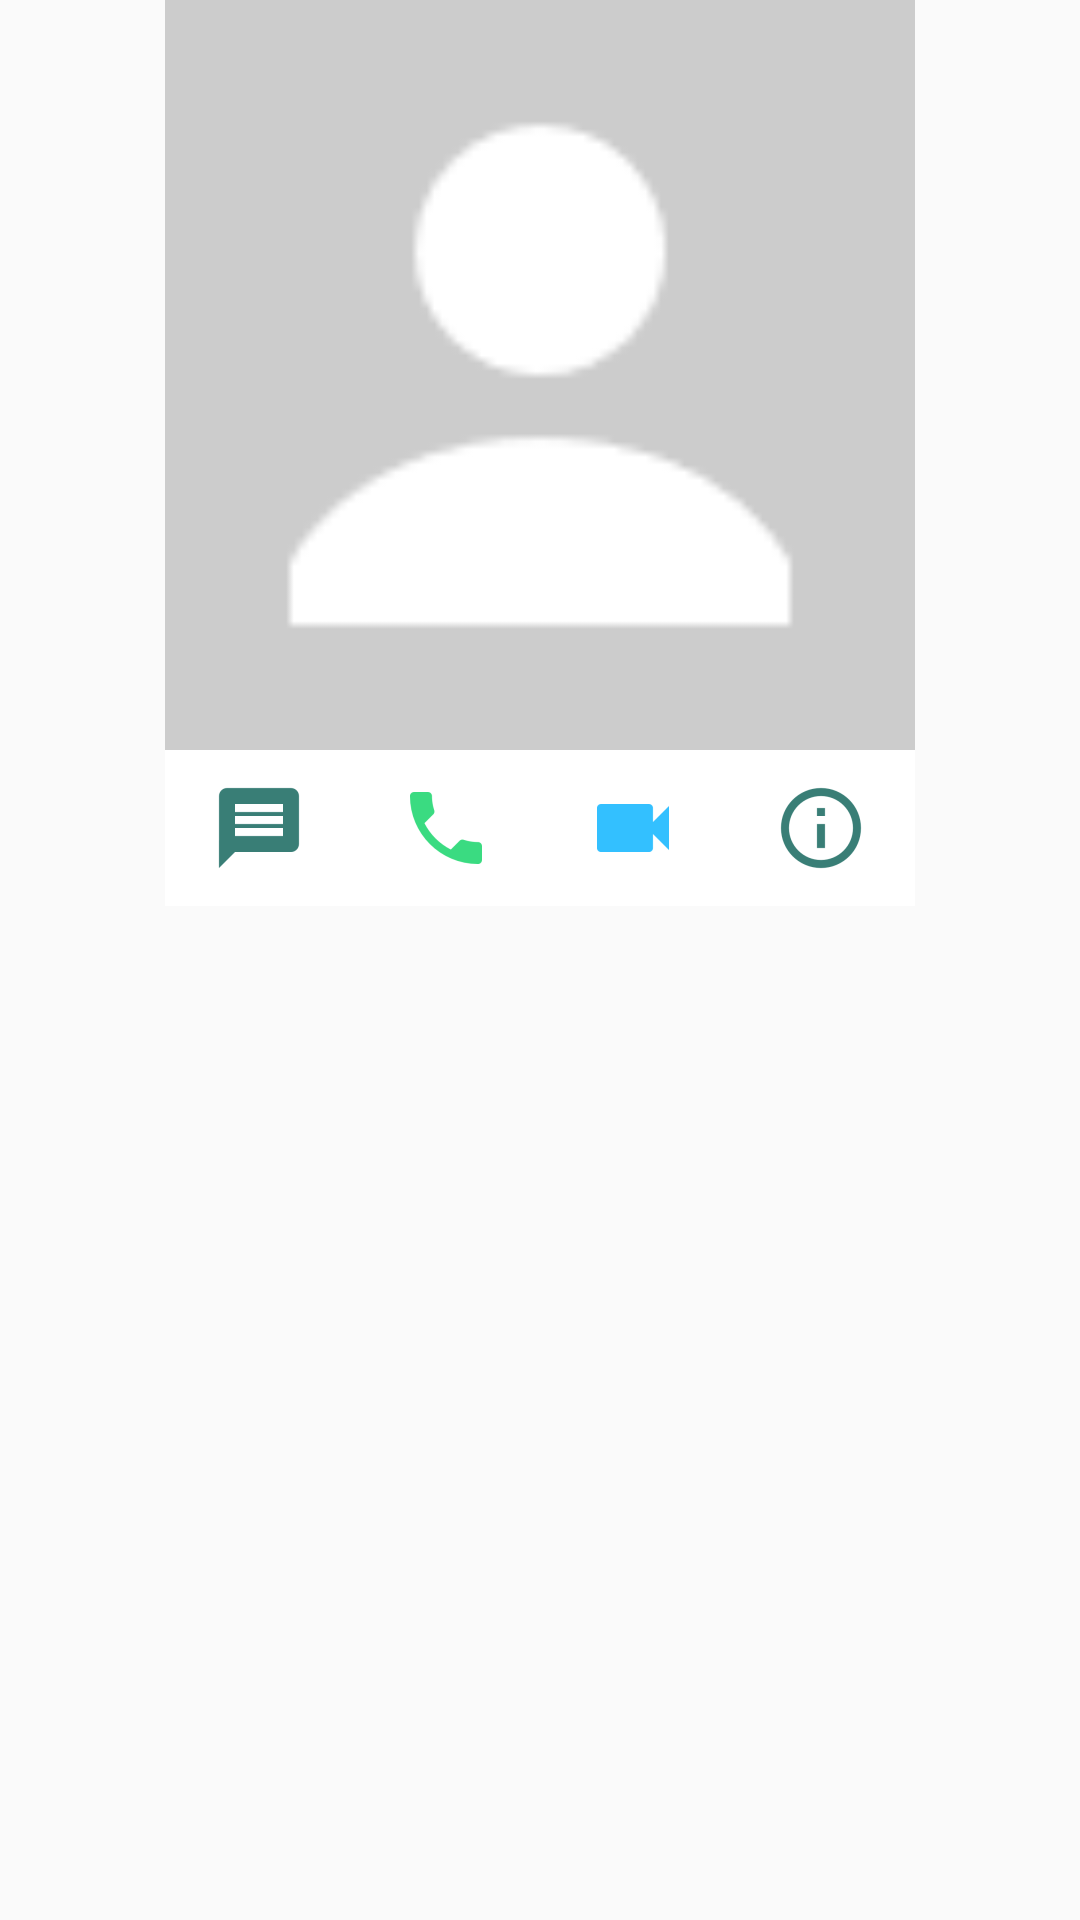

Named icons in this screenshot (1080 × 1920) and their bounding boxes, [x1=x1, y1=y1, x2=x2, y2=y2]:
call: [x1=410, y1=792, x2=482, y2=864]
info: [x1=781, y1=788, x2=861, y2=868]
message: [x1=219, y1=788, x2=299, y2=868]
video call: [x1=597, y1=804, x2=669, y2=852]
